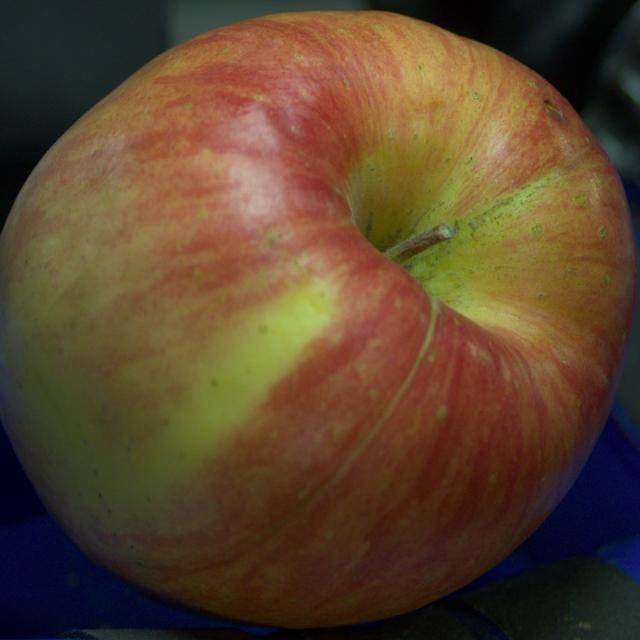apple: (0, 11, 635, 626)
pest: (544, 101, 563, 119)
